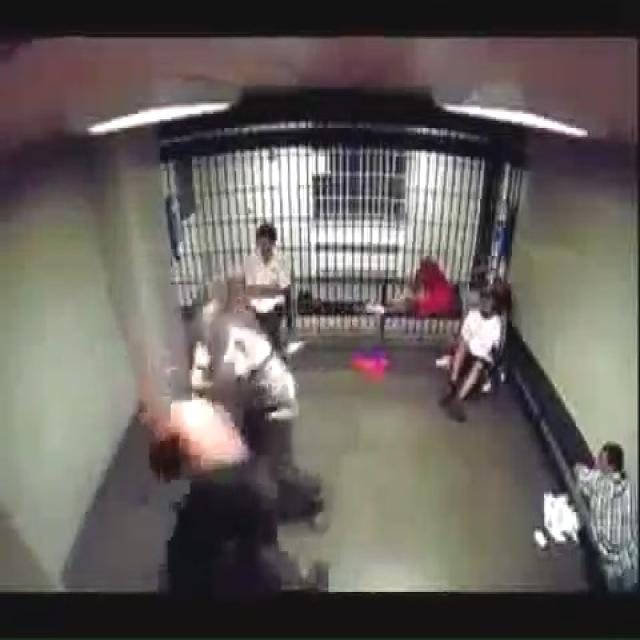fight: (127, 294, 330, 628)
